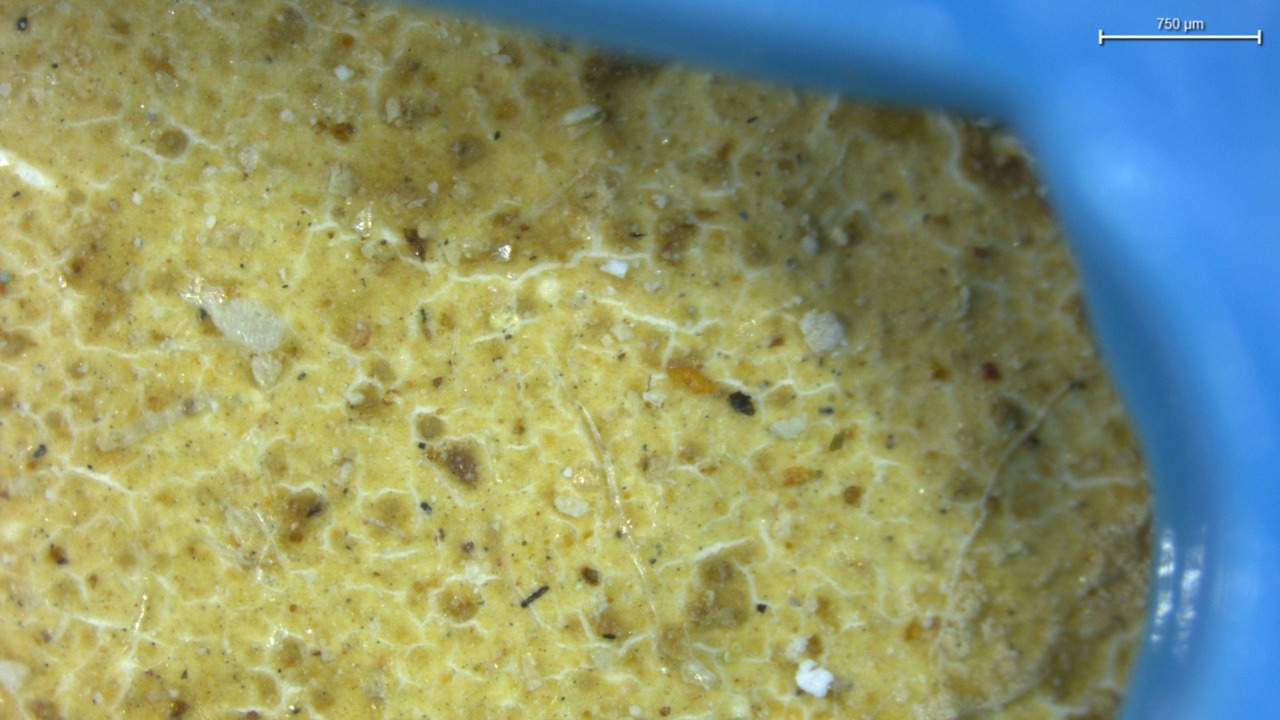microplastic_fragment: (800, 310, 851, 353), (795, 659, 834, 697)
